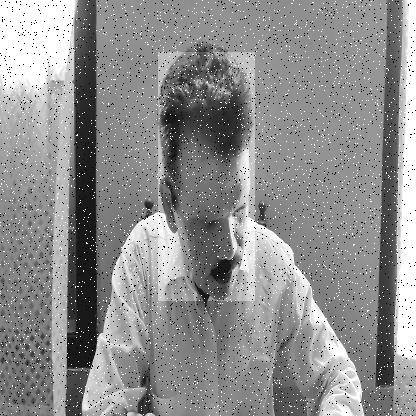Distracted: (158, 52, 255, 301)
